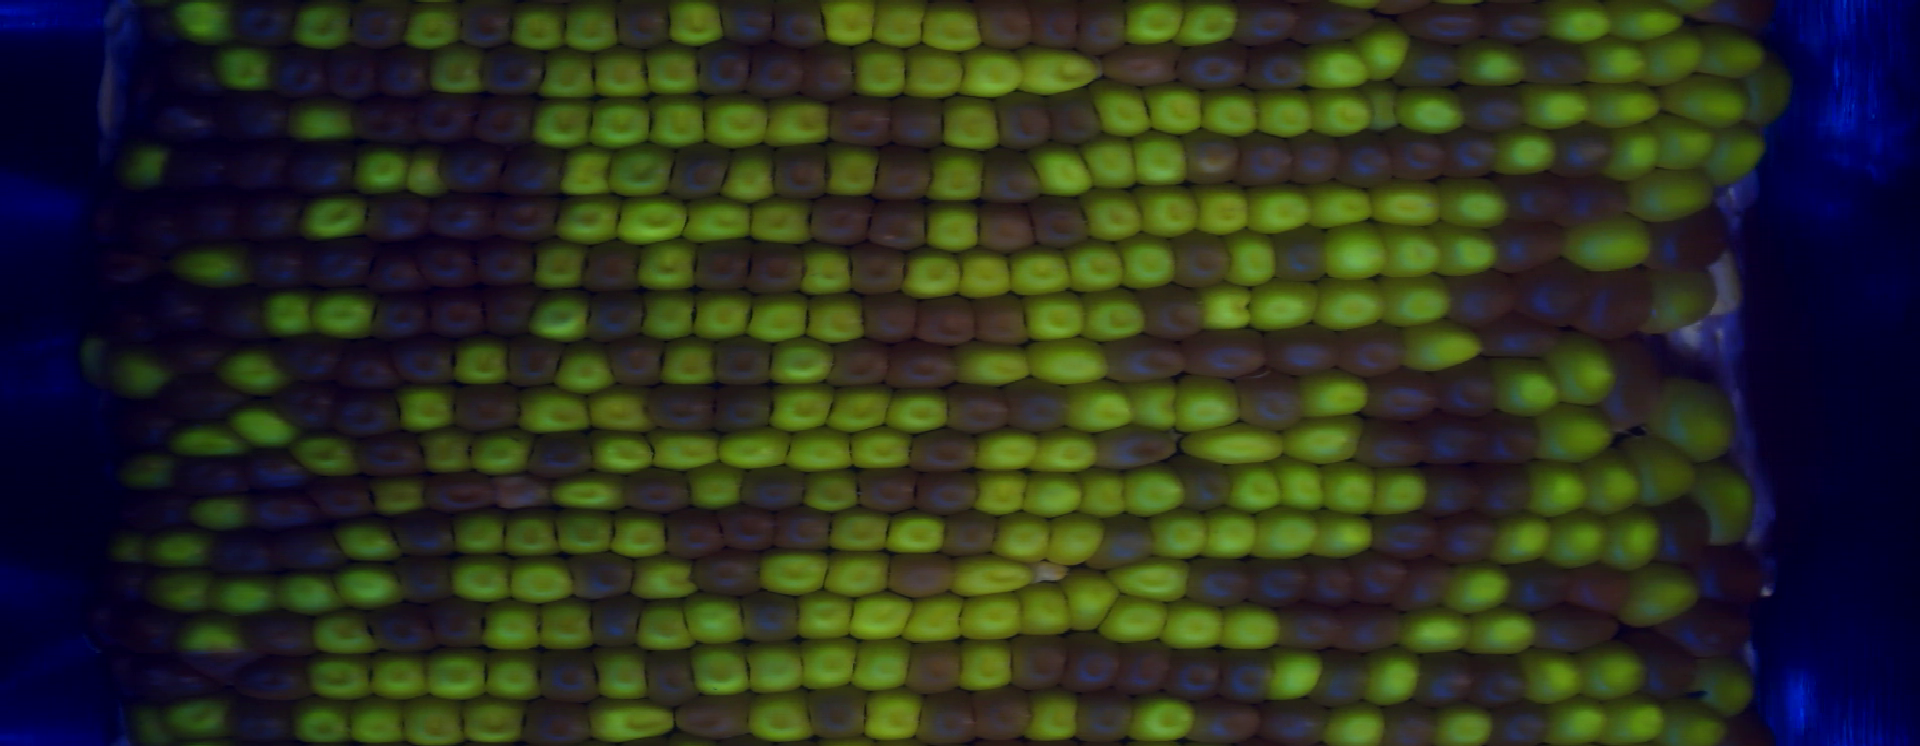fluorescent: (1652, 381, 1736, 464), (1633, 265, 1725, 336), (1693, 465, 1757, 552), (1548, 333, 1619, 405), (1629, 167, 1716, 225), (1559, 219, 1658, 271), (1622, 435, 1697, 501), (1656, 72, 1749, 125), (1490, 356, 1565, 420), (1620, 567, 1700, 626), (583, 696, 680, 741), (1573, 643, 1651, 699), (590, 43, 658, 107), (1536, 407, 1615, 461), (1171, 374, 1243, 432), (1177, 425, 1288, 463), (1015, 44, 1097, 96), (1584, 450, 1647, 517), (1398, 322, 1483, 371), (1434, 176, 1512, 229), (1644, 113, 1714, 171), (1600, 511, 1668, 571), (1516, 646, 1584, 704), (1024, 141, 1093, 198), (1703, 118, 1766, 181), (954, 45, 1027, 99), (1691, 658, 1758, 717), (620, 192, 688, 250), (513, 386, 591, 436), (1545, 514, 1616, 570), (528, 288, 594, 347), (580, 383, 658, 434), (1696, 23, 1766, 78), (1022, 339, 1109, 383), (764, 96, 835, 149), (587, 646, 651, 704), (1079, 289, 1149, 343), (1526, 461, 1588, 521), (1046, 511, 1109, 570), (1116, 233, 1180, 290), (1089, 78, 1155, 135), (1379, 219, 1445, 276), (553, 194, 629, 243), (1382, 274, 1455, 326), (1160, 599, 1228, 653), (1060, 383, 1138, 431), (1282, 416, 1365, 461), (1249, 281, 1324, 330), (553, 339, 618, 396), (913, 1, 984, 53), (460, 695, 531, 746), (939, 96, 1005, 151), (1436, 220, 1504, 274), (283, 1, 355, 51), (170, 246, 252, 290), (746, 194, 814, 246), (422, 648, 491, 701), (756, 550, 835, 595), (1305, 89, 1379, 138), (924, 146, 987, 203), (704, 96, 774, 147), (538, 47, 601, 103), (850, 635, 913, 691), (951, 247, 1016, 303), (1373, 465, 1438, 521), (793, 588, 858, 643), (480, 597, 545, 652), (311, 288, 382, 338), (609, 145, 675, 198), (845, 47, 911, 100), (1294, 371, 1373, 416), (1062, 241, 1129, 294), (1319, 276, 1386, 328), (1322, 225, 1390, 278), (1063, 568, 1116, 636), (1309, 510, 1381, 559), (742, 695, 818, 741), (217, 348, 285, 399), (216, 43, 279, 98), (1004, 247, 1074, 298), (1491, 514, 1558, 567), (741, 643, 807, 696), (1460, 40, 1531, 89), (1251, 510, 1322, 559), (643, 98, 710, 149), (1130, 131, 1191, 187), (1076, 136, 1139, 191), (1018, 292, 1087, 341), (305, 650, 375, 699), (1393, 610, 1478, 650), (287, 97, 364, 141), (899, 45, 965, 97), (769, 381, 835, 432), (1397, 87, 1468, 135), (1363, 650, 1420, 709), (255, 289, 322, 339), (1320, 461, 1380, 517), (484, 646, 544, 702), (797, 638, 858, 693), (900, 249, 962, 303), (1111, 560, 1191, 601), (1193, 183, 1256, 235), (804, 294, 869, 345), (684, 594, 749, 646), (634, 601, 699, 653), (164, 1, 238, 47), (680, 195, 753, 240), (331, 519, 404, 565), (1172, 1, 1238, 51), (718, 147, 778, 202), (1201, 503, 1261, 559), (1247, 185, 1318, 232), (1442, 563, 1513, 610), (823, 551, 894, 598), (348, 145, 409, 198), (1131, 187, 1199, 236), (1131, 695, 1199, 744), (347, 692, 408, 746), (332, 563, 407, 608), (920, 200, 982, 252), (1739, 60, 1791, 122), (1544, 699, 1614, 746), (427, 40, 486, 96), (1120, 465, 1187, 514), (1642, 29, 1702, 83), (638, 239, 699, 292), (590, 96, 651, 148), (1142, 81, 1204, 134), (748, 290, 811, 342), (640, 45, 704, 96), (829, 385, 898, 431), (887, 387, 955, 434), (1371, 181, 1444, 225), (689, 646, 754, 695), (1078, 194, 1144, 241), (560, 2, 621, 54), (1300, 47, 1374, 89), (1607, 121, 1658, 183), (958, 638, 1019, 690), (1013, 587, 1074, 638), (953, 559, 1038, 595), (531, 99, 594, 149), (1255, 88, 1318, 138), (552, 510, 620, 556), (1603, 697, 1667, 746), (861, 691, 924, 740), (1022, 469, 1086, 518), (1583, 83, 1660, 124), (447, 555, 516, 600), (508, 559, 580, 601), (1270, 459, 1329, 512), (992, 512, 1051, 565), (403, 695, 463, 746), (824, 506, 890, 552), (171, 698, 238, 745), (291, 696, 353, 746), (1608, 2, 1689, 40), (954, 343, 1027, 385), (1104, 594, 1167, 643), (611, 512, 673, 561), (389, 387, 460, 430), (629, 556, 700, 599), (851, 592, 915, 639), (823, 143, 879, 197), (973, 431, 1042, 475), (1583, 40, 1652, 85), (300, 197, 372, 239), (535, 600, 596, 649), (769, 338, 835, 383), (451, 508, 513, 556), (1228, 461, 1283, 514), (1311, 185, 1375, 232), (696, 292, 753, 343), (1220, 233, 1277, 284), (451, 341, 516, 386), (1524, 86, 1589, 131), (1471, 610, 1539, 653), (369, 650, 429, 699), (1146, 507, 1207, 555), (1664, 702, 1730, 746), (904, 598, 970, 642), (315, 610, 381, 654), (558, 146, 615, 197), (1269, 650, 1325, 702), (1074, 467, 1130, 518), (1360, 21, 1411, 78), (397, 6, 468, 47), (178, 622, 258, 658), (471, 428, 531, 475), (867, 1, 927, 49), (659, 339, 719, 387), (1499, 129, 1559, 176), (973, 469, 1033, 517), (849, 428, 913, 472), (1545, 1, 1614, 43), (1205, 85, 1258, 138), (642, 290, 697, 342), (719, 429, 791, 468), (1322, 706, 1395, 745), (500, 510, 562, 555), (1198, 283, 1254, 333), (959, 595, 1022, 639), (818, 1, 878, 48), (1429, 707, 1500, 746), (1216, 608, 1281, 650), (885, 510, 947, 555), (800, 245, 853, 296), (113, 350, 168, 401), (276, 571, 342, 612), (168, 426, 257, 457), (224, 412, 298, 448), (1123, 1, 1184, 45), (553, 474, 627, 511), (651, 430, 722, 468), (662, 1, 729, 42), (1033, 434, 1100, 474), (418, 429, 476, 474), (790, 430, 853, 472), (588, 432, 655, 472), (287, 439, 365, 472), (535, 243, 587, 293), (1129, 379, 1179, 429), (511, 9, 571, 50), (216, 575, 280, 612), (152, 571, 214, 610), (1359, 77, 1403, 132), (1027, 695, 1082, 739), (120, 146, 169, 195), (806, 472, 860, 516), (129, 699, 179, 746), (691, 464, 743, 508), (404, 147, 449, 197), (369, 475, 426, 514), (189, 492, 246, 527), (148, 532, 211, 561), (122, 454, 175, 489), (77, 337, 111, 387), (108, 529, 152, 559), (1670, 1, 1717, 15), (1331, 1, 1385, 4)
nonfluorescent: (1578, 268, 1651, 334), (1607, 341, 1660, 428), (1629, 630, 1698, 696), (1531, 605, 1622, 655), (1513, 261, 1589, 321), (1668, 603, 1753, 655), (133, 657, 225, 706), (1649, 499, 1716, 566), (1653, 214, 1730, 272), (467, 238, 549, 292), (1229, 372, 1307, 429), (415, 238, 487, 296), (669, 691, 758, 737), (239, 609, 326, 657), (1253, 697, 1337, 746), (885, 336, 960, 391), (1485, 222, 1571, 269), (1180, 328, 1266, 376), (266, 524, 347, 575), (384, 510, 460, 562), (978, 145, 1043, 206), (1362, 371, 1440, 421), (425, 194, 504, 243), (1044, 89, 1109, 149), (440, 140, 504, 200), (887, 91, 953, 149), (536, 646, 604, 703), (566, 548, 639, 600), (224, 691, 302, 740), (1059, 630, 1120, 692), (1391, 4, 1491, 42), (1027, 191, 1093, 249), (1071, 688, 1138, 746), (1446, 271, 1515, 326), (1259, 325, 1342, 370), (842, 241, 912, 295), (289, 141, 360, 194), (167, 145, 239, 196), (471, 89, 539, 145), (900, 638, 967, 693), (871, 146, 939, 200), (640, 646, 700, 707), (158, 379, 255, 416), (917, 688, 981, 746), (302, 238, 377, 287), (1090, 514, 1155, 571), (1357, 420, 1428, 472), (733, 590, 804, 642), (969, 687, 1035, 742), (1561, 171, 1629, 225), (800, 40, 860, 100), (1220, 644, 1280, 704), (1338, 129, 1400, 187), (453, 381, 527, 430), (1337, 601, 1411, 650), (326, 390, 403, 436), (1184, 699, 1261, 746), (1100, 337, 1185, 379), (828, 91, 894, 145), (1187, 552, 1253, 606), (503, 337, 571, 390), (691, 548, 763, 597), (251, 243, 320, 294), (1007, 628, 1067, 687), (804, 685, 873, 736), (991, 91, 1052, 148), (1473, 461, 1534, 518), (1474, 317, 1564, 356), (1091, 429, 1180, 468), (1462, 652, 1528, 704), (369, 601, 440, 650), (1273, 603, 1344, 652), (176, 454, 255, 499), (672, 142, 732, 200), (1116, 637, 1176, 695), (748, 42, 804, 103), (496, 192, 564, 243), (229, 138, 291, 194), (209, 290, 272, 345), (228, 89, 291, 143), (1386, 556, 1450, 610), (1178, 40, 1248, 89), (1520, 40, 1589, 89), (1420, 418, 1490, 467), (348, 435, 430, 477), (1340, 325, 1406, 376), (711, 336, 778, 387), (703, 386, 780, 430), (647, 381, 718, 429), (1269, 224, 1327, 282), (1169, 646, 1227, 704), (771, 142, 831, 198), (868, 195, 928, 251), (206, 526, 278, 572), (522, 697, 594, 744), (1177, 130, 1240, 183), (1168, 232, 1232, 284), (309, 474, 384, 518), (525, 432, 599, 478), (1367, 513, 1440, 559), (1310, 655, 1376, 706), (421, 470, 501, 512), (378, 40, 433, 100), (966, 296, 1033, 345), (384, 339, 459, 383), (1138, 287, 1201, 338), (1435, 363, 1499, 414), (1344, 550, 1408, 601), (1412, 655, 1476, 707), (624, 467, 697, 512), (1433, 513, 1498, 563), (1703, 554, 1768, 604), (909, 428, 984, 470), (944, 386, 1014, 432), (370, 195, 440, 241), (913, 296, 980, 345), (743, 465, 809, 514), (506, 142, 564, 197), (1424, 461, 1483, 516), (744, 239, 804, 293), (585, 594, 645, 648), (1234, 131, 1296, 184), (1007, 380, 1068, 432), (1561, 563, 1632, 609), (1103, 42, 1183, 82), (269, 383, 337, 431), (1457, 83, 1526, 130), (271, 337, 343, 381), (327, 44, 382, 102), (276, 47, 334, 100), (669, 505, 727, 559), (883, 551, 953, 597), (582, 241, 642, 294), (972, 200, 1033, 251), (240, 450, 313, 492), (1501, 171, 1569, 218), (1501, 561, 1569, 608), (857, 292, 921, 341), (339, 347, 408, 392), (691, 238, 756, 285), (773, 503, 838, 551), (371, 245, 430, 298), (1480, 412, 1540, 463), (710, 1, 780, 45), (1477, 1, 1550, 43), (1173, 461, 1236, 510), (973, 1, 1036, 50), (429, 597, 491, 646), (1248, 559, 1310, 608), (828, 339, 891, 387), (1300, 551, 1358, 604), (1395, 39, 1456, 88), (609, 334, 670, 383), (356, 97, 419, 145), (245, 194, 307, 241), (1386, 127, 1442, 180), (1075, 1, 1128, 58), (583, 293, 647, 339), (1681, 1, 1771, 34), (1238, 47, 1307, 89), (860, 467, 921, 514), (1549, 126, 1611, 173), (1286, 130, 1341, 183), (193, 196, 244, 254), (1232, 2, 1296, 48), (696, 40, 754, 89), (349, 1, 408, 50), (1289, 4, 1370, 39), (939, 510, 1000, 556), (484, 40, 539, 92), (418, 92, 474, 142), (228, 1, 291, 45), (484, 285, 536, 338), (158, 292, 213, 342), (1375, 702, 1438, 746), (1487, 703, 1550, 746), (1029, 1, 1082, 51), (719, 503, 778, 549), (393, 557, 457, 599), (613, 1, 673, 45), (809, 198, 869, 243), (170, 94, 230, 138), (1438, 129, 1495, 174), (774, 1, 831, 47), (918, 473, 981, 514), (429, 294, 487, 338), (132, 213, 190, 257), (457, 2, 516, 45), (493, 469, 555, 510), (375, 296, 432, 339), (131, 492, 190, 534), (257, 492, 328, 527), (93, 247, 167, 281), (174, 49, 220, 98), (129, 608, 178, 654), (124, 408, 179, 448), (118, 303, 167, 347), (1718, 710, 1777, 746), (108, 563, 159, 604), (167, 345, 230, 374), (81, 608, 122, 646), (1381, 1, 1427, 16)
